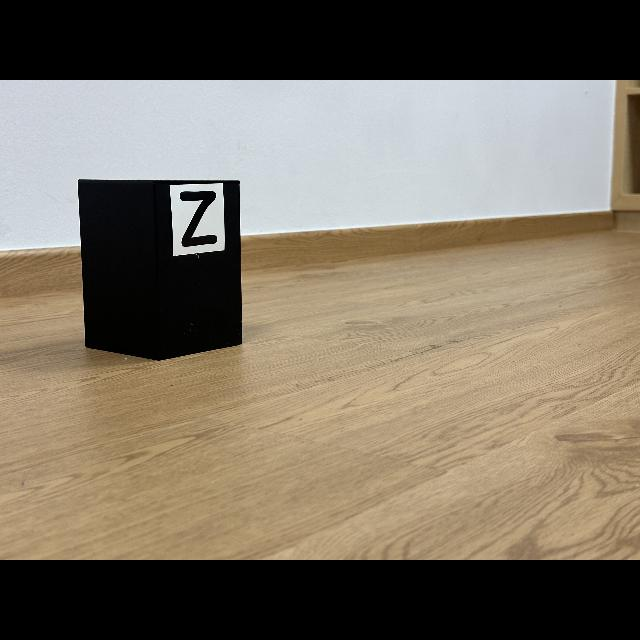Z: (180, 191, 218, 248)
